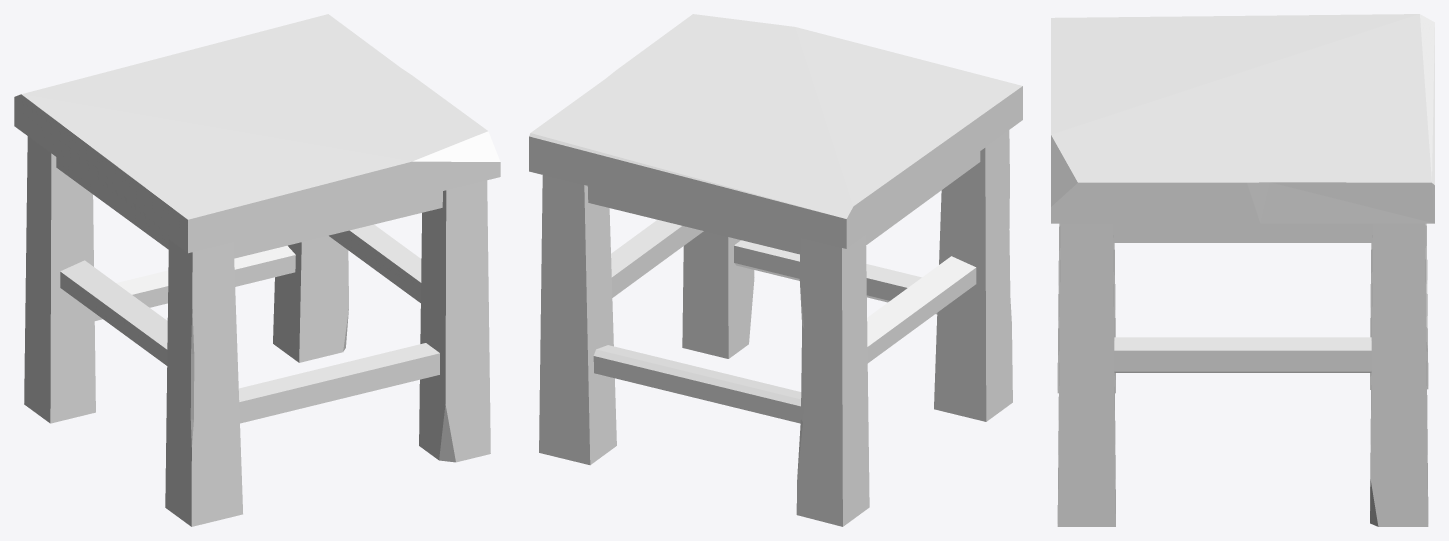
Rendered from Prop_Wooden_Stool_02.glb.
The picture shows the model from 3 angles, left to right: view 1: azimuth 30°, elevation 25°; view 2: azimuth 150°, elevation 25°; view 3: azimuth 270°, elevation 25°; orthographic projection. The views are drawn at different scales.
Parts seen in each view (by area): view 1: Prop_Wooden_Stool_02; view 2: Prop_Wooden_Stool_02; view 3: Prop_Wooden_Stool_02.
Part boxes in pixels (x1,y1,x2,y2): Prop_Wooden_Stool_02: [14, 14, 500, 526]; Prop_Wooden_Stool_02: [529, 14, 1022, 526]; Prop_Wooden_Stool_02: [1051, 14, 1434, 526].
Size of the model in its own units: 0.26 by 0.25 by 0.25.
Materials: 1 (1 with a texture image).
